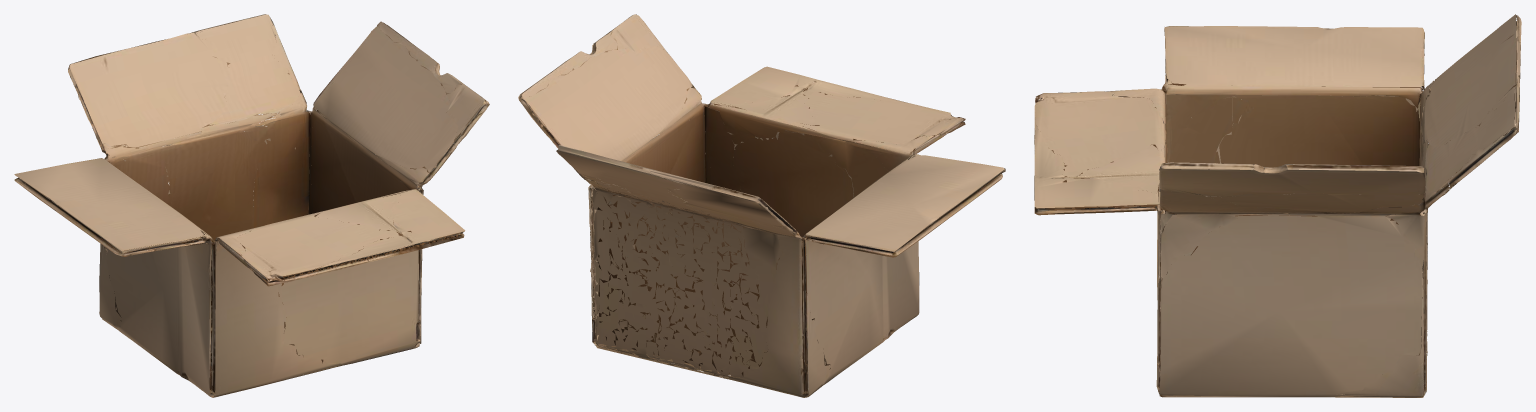
The model's file is box_open_lod0.glb.
The picture shows the model from 3 angles, left to right: view 1: azimuth 30°, elevation 25°; view 2: azimuth 150°, elevation 25°; view 3: azimuth 270°, elevation 25°; orthographic projection. The views are drawn at different scales.
Visible parts, largest first — view 1: node_0; view 2: node_0; view 3: node_0.
Boxes of the visible parts, x1,y1,x2,y2 form: node_0: [14, 14, 489, 397]; node_0: [518, 14, 1005, 397]; node_0: [1034, 14, 1521, 397].
Size of the model in its own units: 1.68 by 1 by 1.6.
1 material, 1 textured.
